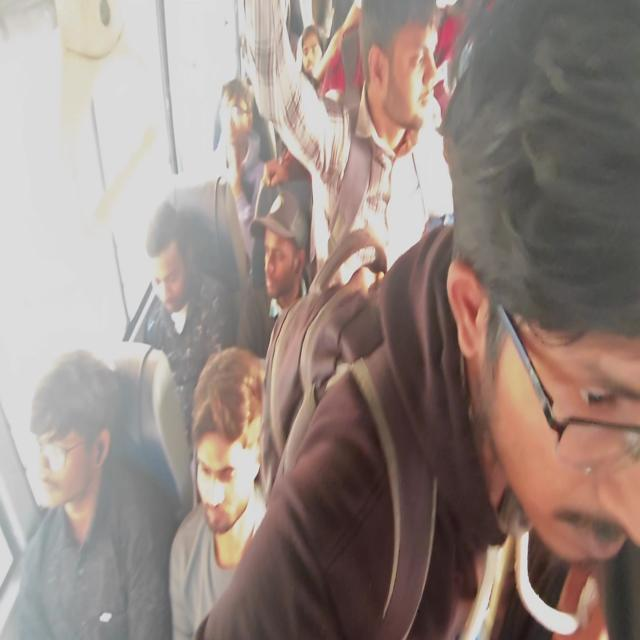person: (408, 34, 640, 640), (23, 383, 158, 550), (350, 0, 438, 237), (138, 194, 240, 369), (188, 372, 267, 534), (206, 87, 272, 201), (264, 192, 316, 323), (291, 12, 332, 128)
